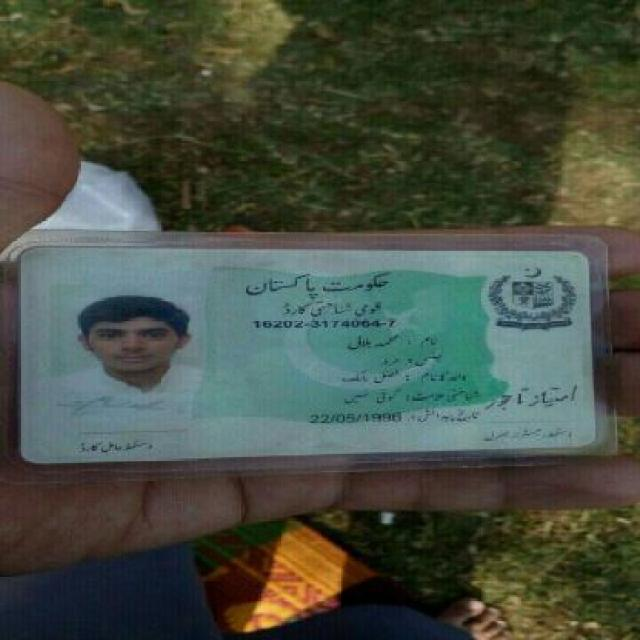Front: (12, 238, 606, 457)
